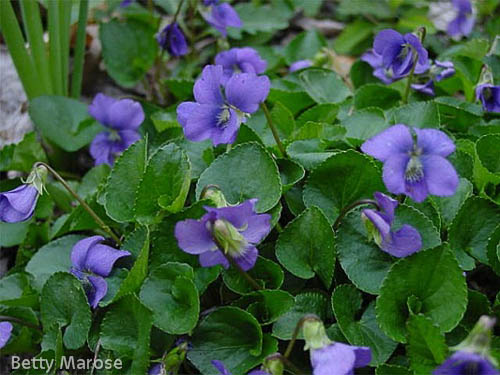violet: (345, 112, 476, 205), (158, 199, 276, 283), (165, 66, 263, 152), (52, 231, 139, 312), (354, 205, 438, 272)
